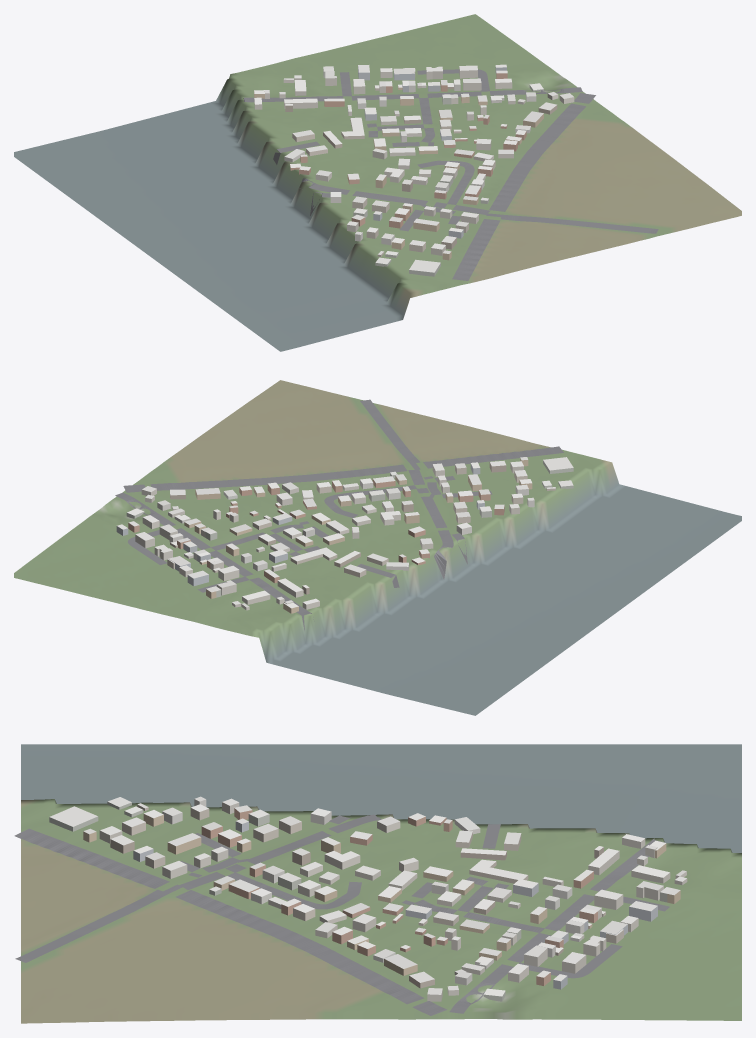
3 renders of one model, top to bottom at view 1: azimuth 30°, elevation 25°; view 2: azimuth 150°, elevation 25°; view 3: azimuth 270°, elevation 25°, orthographic. The views are drawn at different scales.
Parts seen in each view (by area): view 1: prim0, prim1, prim2; view 2: prim0, prim1, prim2; view 3: prim0, prim1, prim2.
Boxes of the visible parts, <box> form: prim0: <box>14,14,741,351</box>; prim1: <box>254,64,574,276</box>; prim2: <box>243,69,658,280</box>; prim0: <box>14,380,741,715</box>; prim1: <box>116,457,573,613</box>; prim2: <box>115,399,563,630</box>; prim0: <box>21,744,741,1023</box>; prim1: <box>49,796,687,1001</box>; prim2: <box>14,814,669,1015</box>.
Bounding box in the file's own units: 518 × 41.29 × 517.
